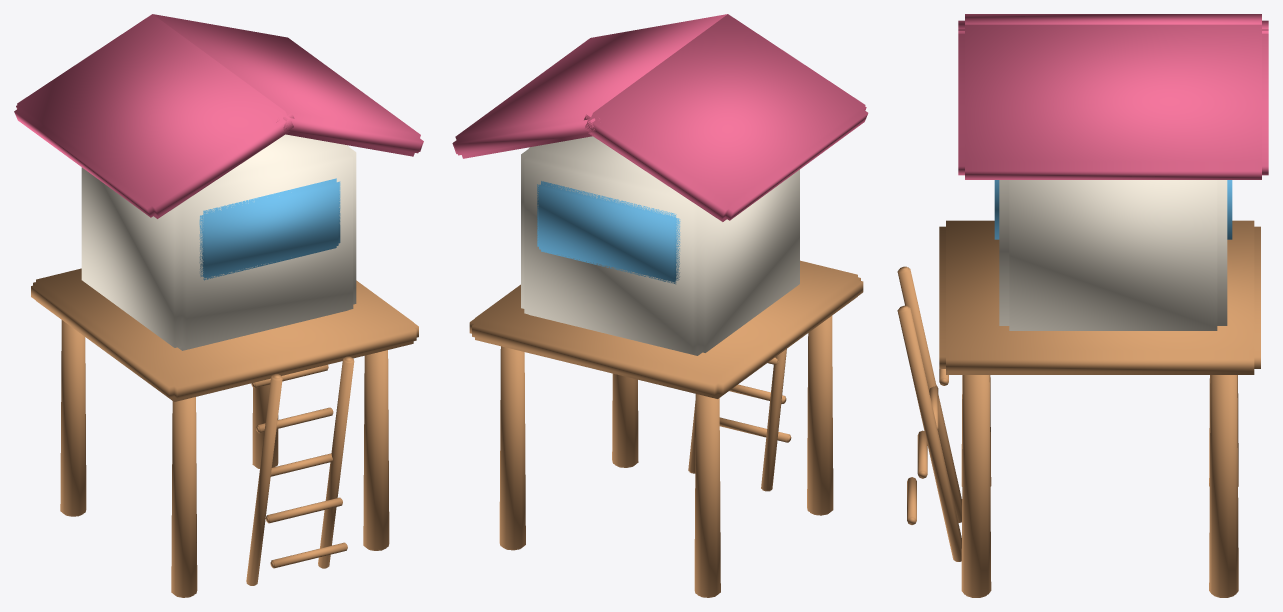
The model's file is LifeguardTower.fbx.
3 renders of one model, left to right at view 1: azimuth 30°, elevation 25°; view 2: azimuth 150°, elevation 25°; view 3: azimuth 270°, elevation 25°, orthographic. The views are drawn at different scales.
Parts seen in each view (by area): view 1: LifeguardTower; view 2: LifeguardTower; view 3: LifeguardTower.
Boxes of the visible parts, x1=… form: LifeguardTower: x1=14, y1=14, x2=423, y2=597; LifeguardTower: x1=452, y1=14, x2=868, y2=597; LifeguardTower: x1=897, y1=14, x2=1268, y2=597.
Size of the model in its own units: 2.16 by 3.45 by 2.25.
